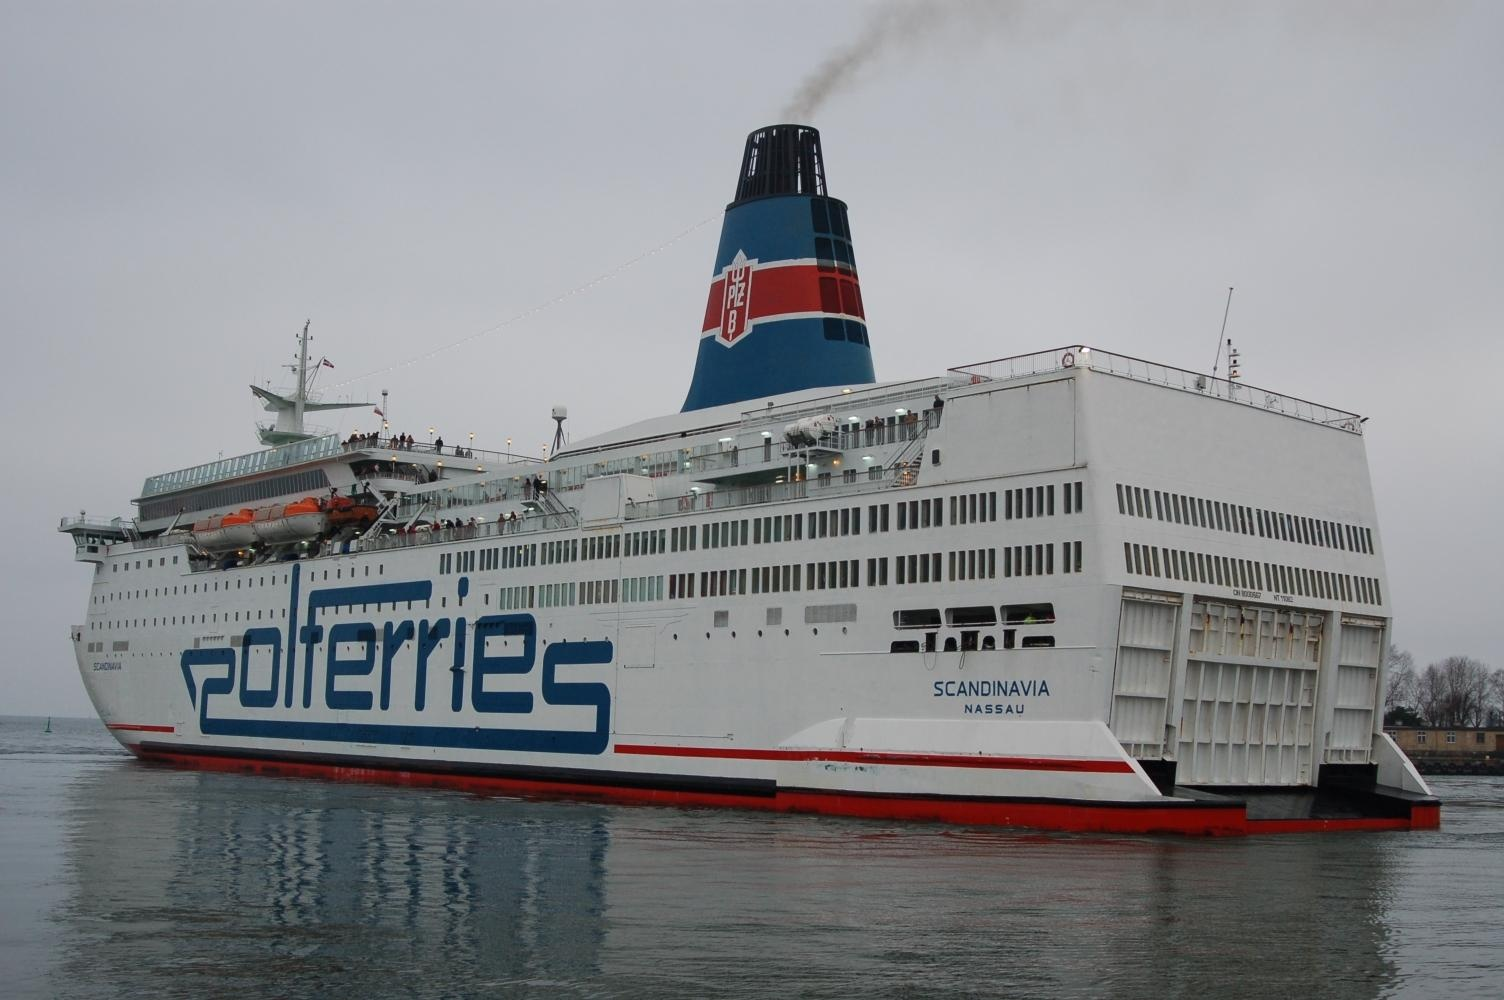youlun: (54, 110, 1398, 845)
